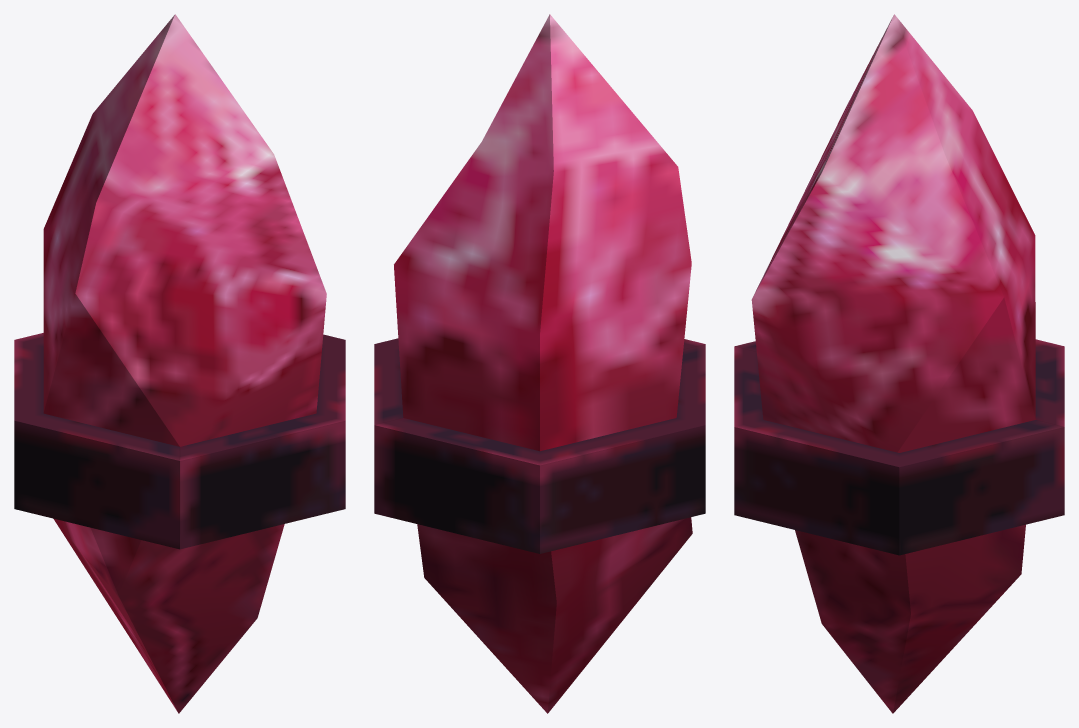
Rendered from sentry_12d45830.glb.
The picture shows the model from 3 angles, left to right: view 1: azimuth 30°, elevation 25°; view 2: azimuth 150°, elevation 25°; view 3: azimuth 270°, elevation 25°; orthographic projection.
Size of the model in its own units: 0.3548 by 0.717 by 0.3073.
Materials: 1 (1 with a texture image).
